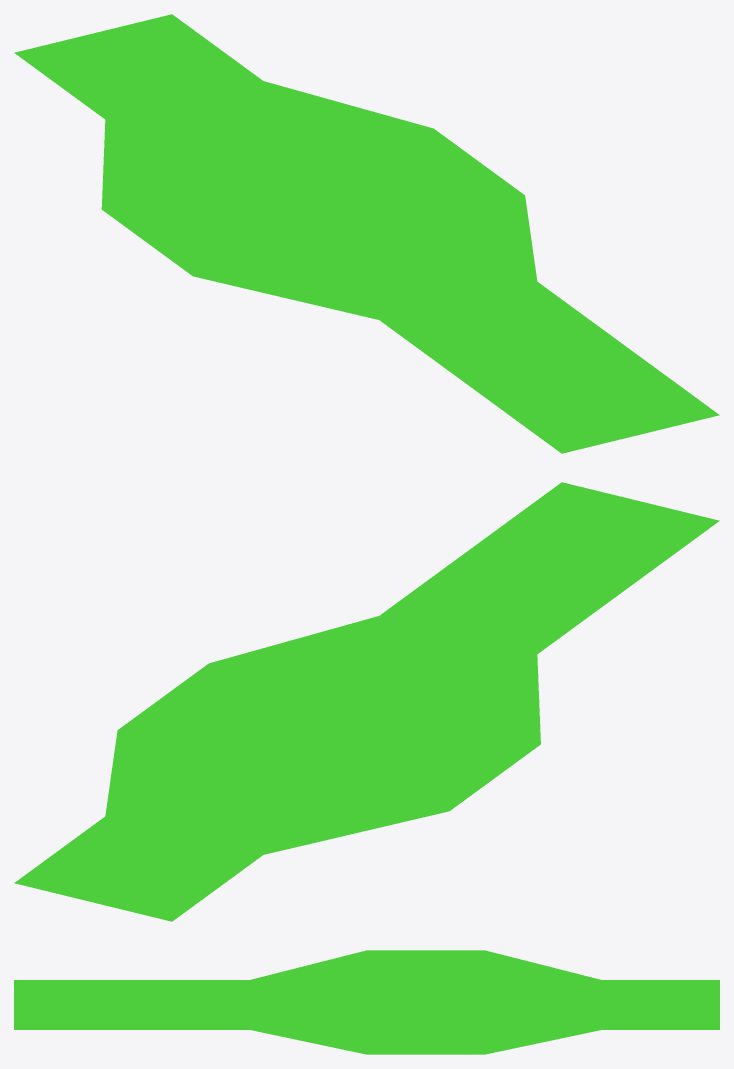
Rendered from hole9_floor.fbx.
The picture shows the model from 3 angles, top to bottom: view 1: azimuth 30°, elevation 25°; view 2: azimuth 150°, elevation 25°; view 3: azimuth 270°, elevation 25°; orthographic projection. The views are drawn at different scales.
Visible parts, largest first — view 1: groundplane; view 2: groundplane; view 3: groundplane.
Part boxes in pixels (left/top/right/bottom): groundplane: left=14, top=14, right=719, bottom=453; groundplane: left=14, top=482, right=719, bottom=921; groundplane: left=14, top=950, right=719, bottom=1054.
Bounding box in the file's own units: 210 × 9.78e-05 × 600.
